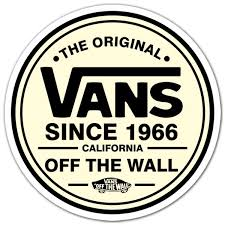vans: (40, 67, 184, 118)
